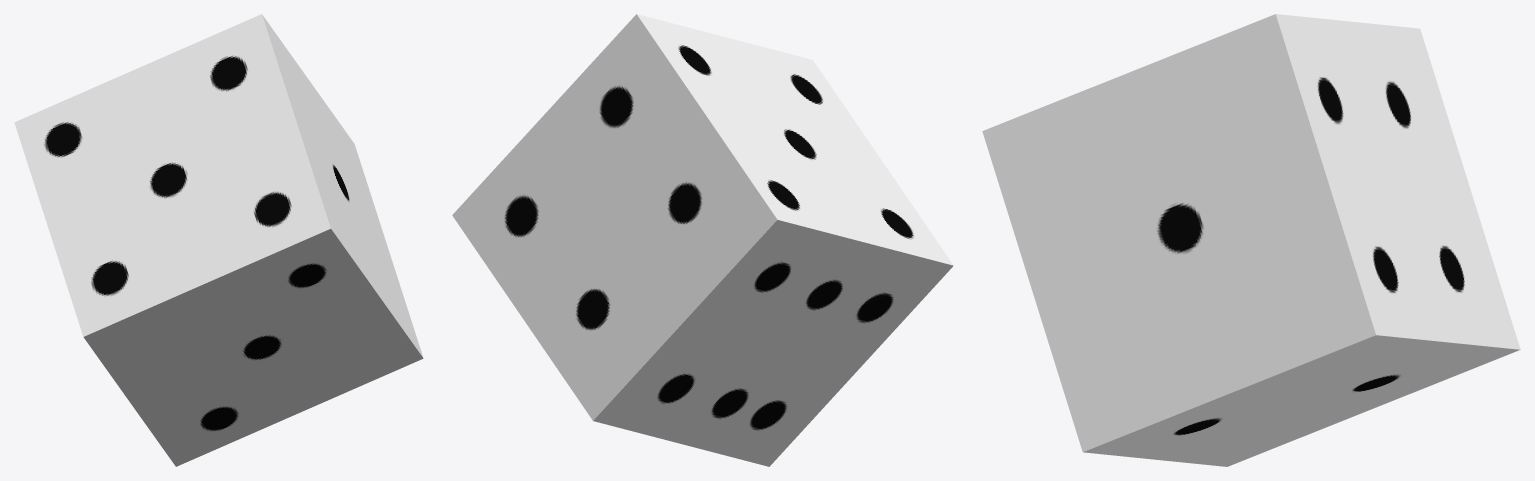
The picture shows the model from 3 angles, left to right: view 1: azimuth 30°, elevation 25°; view 2: azimuth 150°, elevation 25°; view 3: azimuth 270°, elevation 25°; orthographic projection. The views are drawn at different scales.
Visible parts, largest first — view 1: mesh_id29; view 2: mesh_id29; view 3: mesh_id29.
Part boxes in pixels (left/top/right/bottom): mesh_id29: left=14, top=14, right=423, bottom=466; mesh_id29: left=452, top=14, right=953, bottom=466; mesh_id29: left=982, top=14, right=1520, bottom=466.
Size of the model in its own units: 0.1909 by 0.2033 by 0.1918.
1 material, 1 textured.
